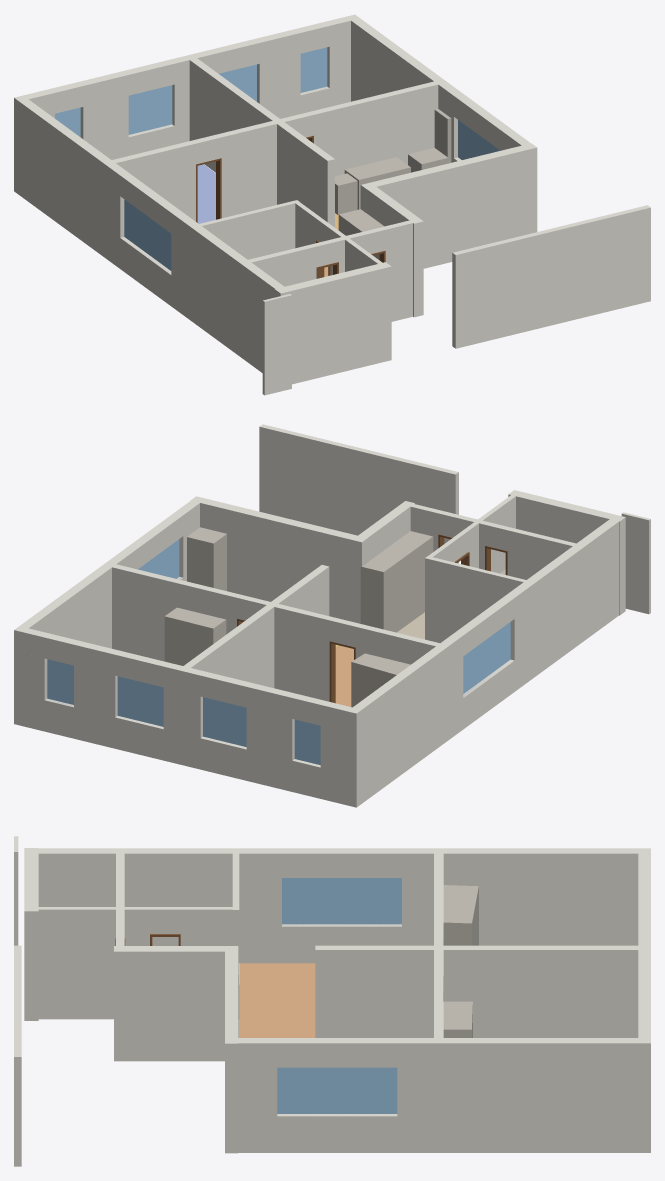
3 renders of one model, top to bottom at view 1: azimuth 30°, elevation 25°; view 2: azimuth 150°, elevation 25°; view 3: azimuth 270°, elevation 25°, orthographic. The views are drawn at different scales.
Parts seen in each view (by area): view 1: walls, window_6, window_0, furniture_5_appliance, window_3, floor_0_Bed_Room, window_5, furniture_11_sink, furniture_4_closet, furniture_2_closet, window_1, furniture_6_appliance; view 2: walls, furniture_4_closet, furniture_1_closet, furniture_3_closet, window_1, window_6, window_0, furniture_0_closet, window_3, window_2, floor_2_Living_Room, window_5; view 3: walls, floor_2_Living_Room, window_5, window_6, furniture_0_closet, furniture_1_closet.
Part boxes in pixels (box(x1,y1,x2,y2)): walls: box(14, 14, 650, 395); window_6: box(124, 199, 171, 270); window_0: box(128, 85, 172, 134); furniture_5_appliance: box(344, 157, 410, 209); window_3: box(300, 47, 327, 92); floor_0_Bed_Room: box(197, 164, 215, 223); window_5: box(458, 120, 500, 159); furniture_11_sink: box(335, 173, 357, 215); furniture_4_closet: box(338, 209, 384, 259); furniture_2_closet: box(434, 109, 451, 163); window_1: box(219, 64, 256, 101); furniture_6_appliance: box(408, 148, 448, 172); walls: box(14, 424, 650, 807); furniture_4_closet: box(360, 531, 433, 632); furniture_1_closet: box(164, 607, 226, 665); furniture_3_closet: box(187, 527, 226, 590); window_1: box(117, 676, 163, 726); window_6: box(463, 622, 510, 693); window_0: box(203, 697, 246, 746); furniture_0_closet: box(351, 653, 410, 707); window_3: box(47, 659, 73, 704); window_2: box(294, 719, 320, 764); floor_2_Living_Room: box(335, 645, 353, 706); window_5: box(138, 539, 179, 578); walls: box(14, 836, 650, 1166); floor_2_Living_Room: box(239, 963, 315, 1037); window_5: box(277, 1067, 397, 1113); window_6: box(282, 878, 401, 924); furniture_0_closet: box(443, 885, 478, 945); furniture_1_closet: box(443, 1001, 472, 1037).
Bounding box in the file's own units: 11.66 × 2.72 × 14.21.
